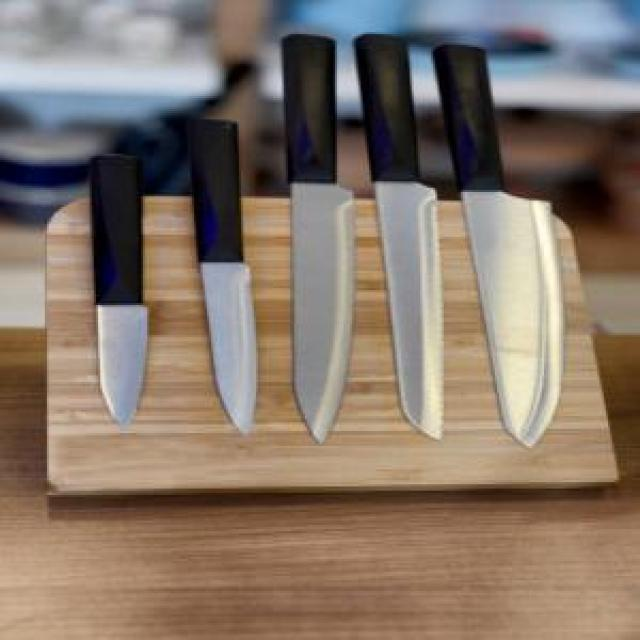knife: (435, 34, 577, 450), (348, 32, 465, 448), (271, 30, 372, 447), (160, 118, 276, 438), (70, 149, 168, 431)
